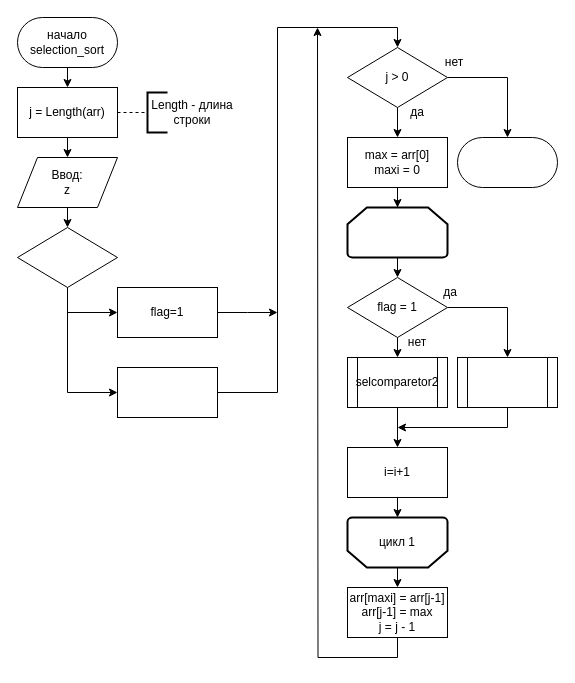
Image size: 575x683. Some labels were removed from this diagram. Here are the shapes that lost their labels. From the top down, the centre of each, then its label:
At (507,162): "конец".
At (397,232): "цикл 1 i = j-1".
At (67,257): "Оператор выбора".
At (167,392): "flag=2".
At (507,382): "selcomparetor1".
